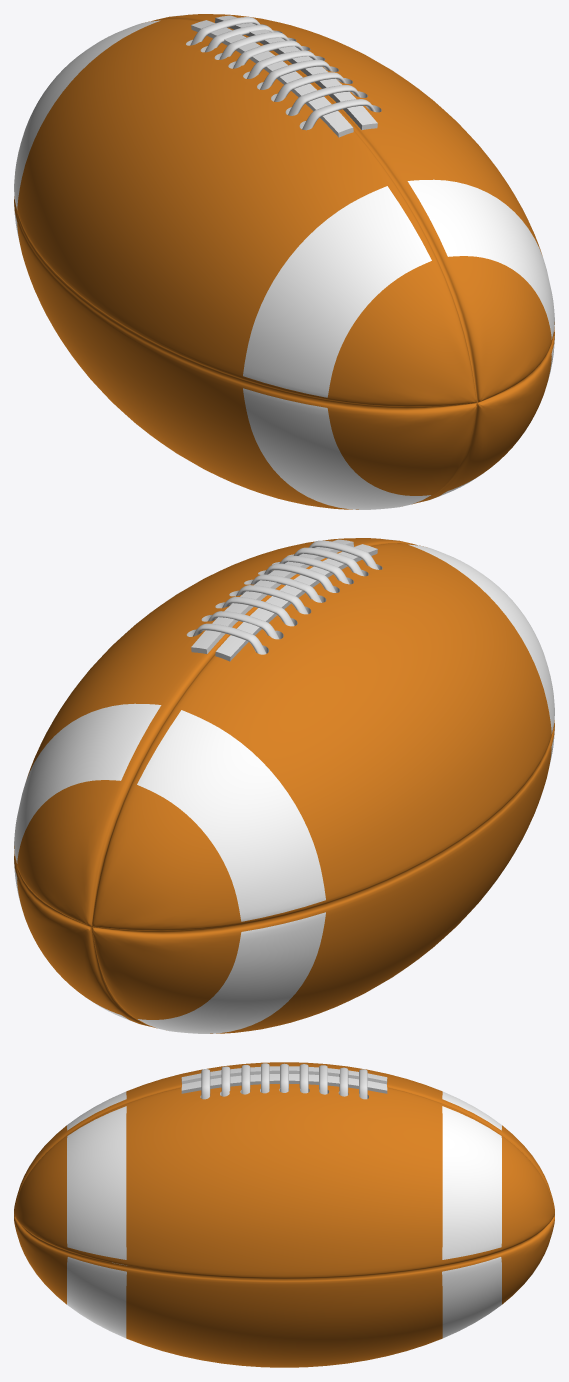
File: rugby.obj.FBX
3 views of the same model, one above another, from view 1: azimuth 30°, elevation 25°; view 2: azimuth 150°, elevation 25°; view 3: azimuth 270°, elevation 25° (orthographic). The views are drawn at different scales.
Visible parts, largest first — view 1: Sphere01, Group01, Line05, Line04, Line02, Line03; view 2: Sphere01, Group01, Line09, Line02, Line07, Line06; view 3: Sphere01, Group01.
Part boxes in pixels (bbox=[...]): Sphere01: bbox=[14, 14, 554, 509]; Group01: bbox=[191, 15, 377, 137]; Line05: bbox=[302, 99, 375, 130]; Line04: bbox=[288, 85, 361, 115]; Line02: bbox=[260, 59, 332, 89]; Line03: bbox=[274, 72, 346, 101]; Sphere01: bbox=[14, 538, 554, 1033]; Group01: bbox=[191, 539, 377, 661]; Line09: bbox=[193, 623, 266, 654]; Line02: bbox=[264, 563, 336, 592]; Line07: bbox=[222, 596, 294, 626]; Line06: bbox=[236, 585, 308, 614]; Sphere01: bbox=[14, 1062, 554, 1367]; Group01: bbox=[181, 1066, 387, 1093].
Size of what is drawn, in the model's own units: 15.7 by 27.6 by 16.03.
